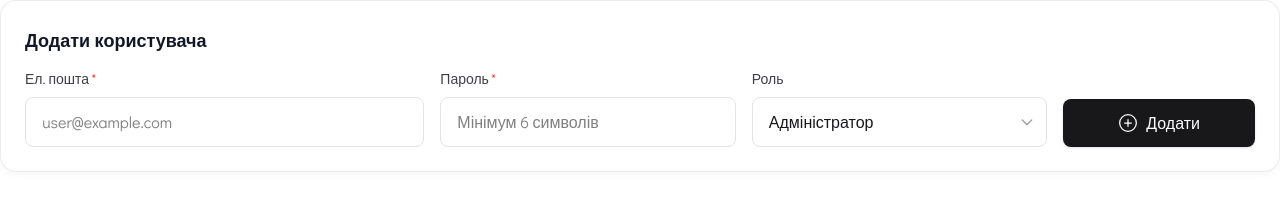
it: CreateUserForm › rejects submission with a missing email
Type "secret123" into the password field labelled "Пароль" at (588, 122), box [440,97,736,147]
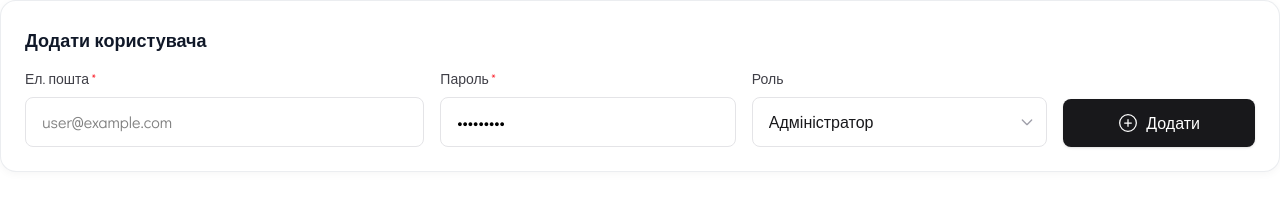
Submit the form "Ел. пошта* Пароль* Роль Додати", box [25,69,1255,147]
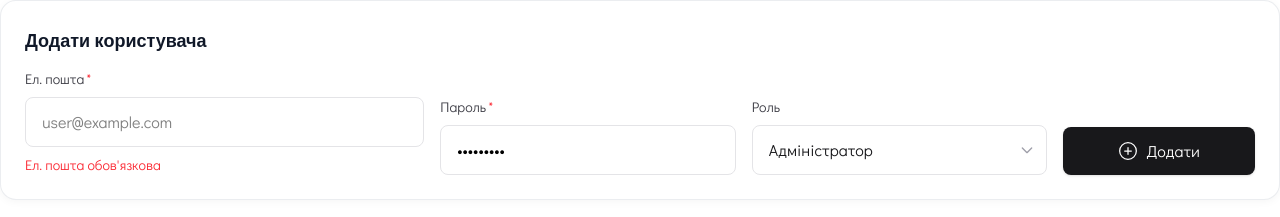
Check: the text "Ел. пошта обов'язкова" is shown, box [25,155,161,174]
